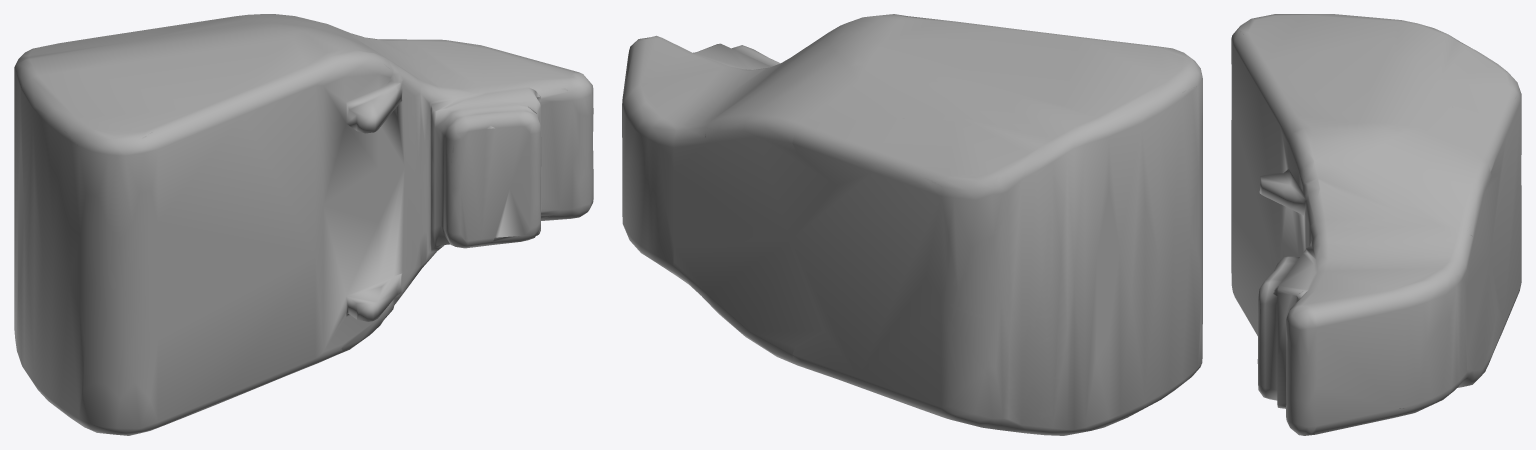
File: finger_l.dae
3 views of the same model, side by side, from view 1: azimuth 30°, elevation 25°; view 2: azimuth 150°, elevation 25°; view 3: azimuth 270°, elevation 25° (orthographic). The views are drawn at different scales.
Visible parts, largest first — view 1: finger_l_link; view 2: finger_l_link; view 3: finger_l_link.
Part boxes in pixels (x1,y1,x2,y2): finger_l_link: [14, 14, 593, 435]; finger_l_link: [622, 14, 1202, 435]; finger_l_link: [1231, 14, 1521, 435].
Bounding box in the file's own units: 0.1046 × 0.0548 × 0.0562.
1 material, 1 textured.
